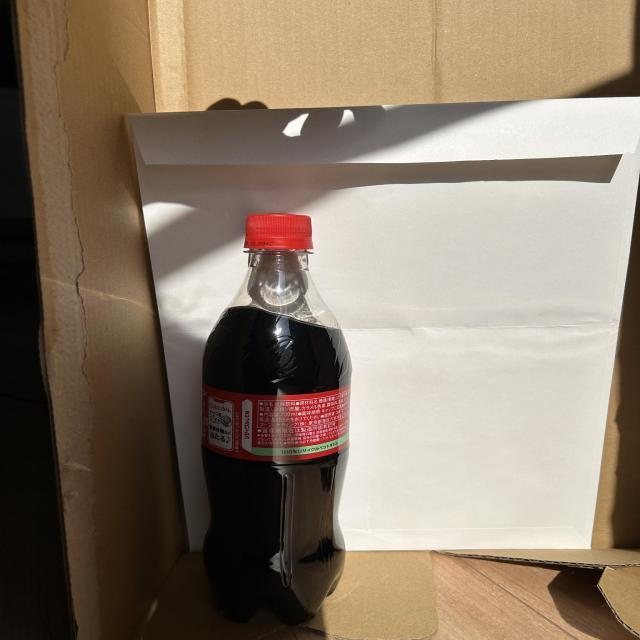high: (201, 213, 352, 622)
